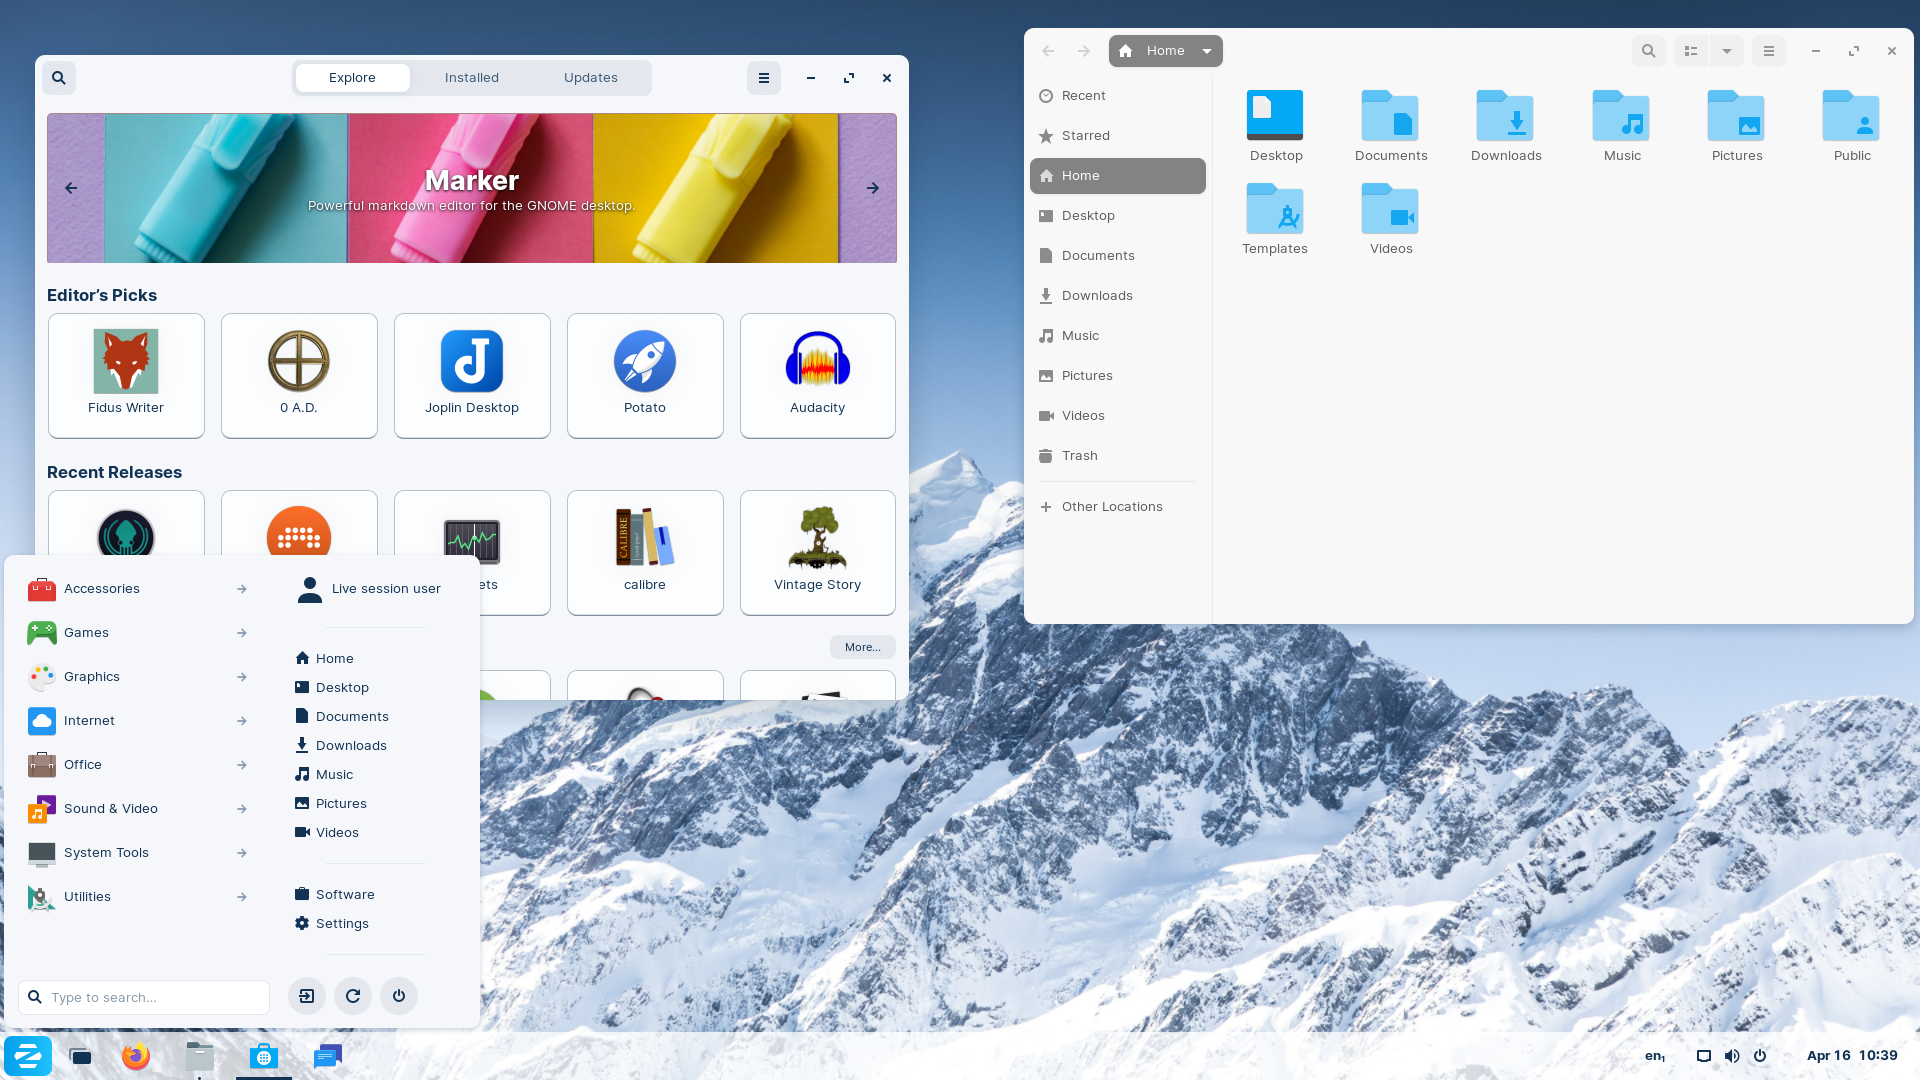search_box: (15, 978, 276, 1018)
